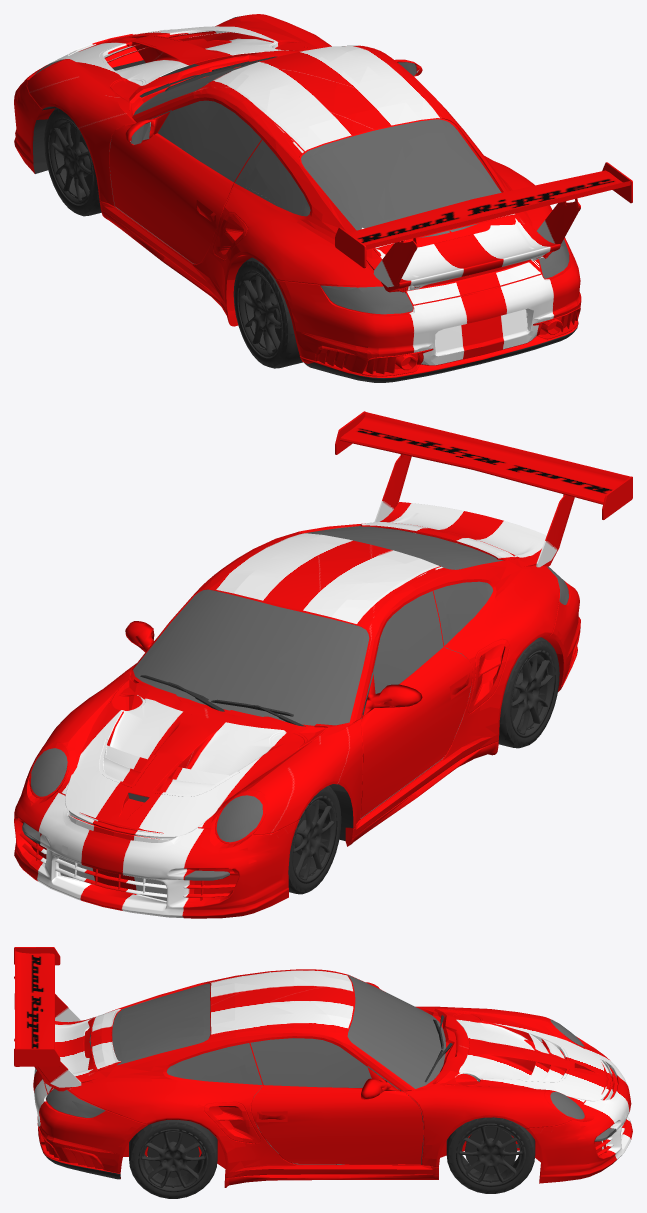
File: Porche.fbx
3 renders of one model, top to bottom at view 1: azimuth 30°, elevation 25°; view 2: azimuth 150°, elevation 25°; view 3: azimuth 270°, elevation 25°, orthographic. The views are drawn at different scales.
Visible parts, largest first — view 1: CarBody, Glass, Spoiler, FLDoor, Hood, FLWing, RLWheel, FLWheel, RearLights, FrontPanel, Wipers; view 2: CarBody, Glass, Hood, FrontPanel, Spoiler, FLDoor, FLWing, RLWheel, FLWheel, Wipers; view 3: CarBody, FRDoor, Glass, Hood, Spoiler, FrontPanel, RRWheel, FRWheel, FLWing, RearLights.
Boxes of the visible parts, x1=… form: CarBody: x1=26, y1=14, x2=581, y2=382; Glass: x1=33, y1=16, x2=501, y2=230; Spoiler: x1=335, y1=162, x2=632, y2=293; FLDoor: x1=109, y1=100, x2=261, y2=263; Hood: x1=65, y1=26, x2=311, y2=97; FLWing: x1=26, y1=59, x2=136, y2=206; RLWheel: x1=233, y1=257, x2=302, y2=368; FLWheel: x1=44, y1=108, x2=101, y2=216; RearLights: x1=320, y1=239, x2=569, y2=314; FrontPanel: x1=14, y1=55, x2=67, y2=173; Wipers: x1=139, y1=56, x2=277, y2=97; CarBody: x1=26, y1=522, x2=580, y2=848; Glass: x1=22, y1=526, x2=502, y2=880; Hood: x1=65, y1=687, x2=315, y2=837; FrontPanel: x1=14, y1=778, x2=295, y2=918; Spoiler: x1=335, y1=411, x2=632, y2=567; FLDoor: x1=360, y1=591, x2=472, y2=817; FLWing: x1=198, y1=719, x2=363, y2=839; RLWheel: x1=498, y1=637, x2=559, y2=748; FLWheel: x1=288, y1=785, x2=341, y2=894; Wipers: x1=140, y1=675, x2=305, y2=726; CarBody: x1=33, y1=969, x2=618, y2=1187; FRDoor: x1=250, y1=1038, x2=423, y2=1164; Glass: x1=112, y1=975, x2=616, y2=1141; Hood: x1=445, y1=1012, x2=610, y2=1101; Spoiler: x1=14, y1=947, x2=121, y2=1091; FrontPanel: x1=531, y1=1046, x2=632, y2=1183; RRWheel: x1=129, y1=1120, x2=217, y2=1198; FRWheel: x1=446, y1=1117, x2=535, y2=1193; FLWing: x1=416, y1=1006, x2=584, y2=1048; RearLights: x1=46, y1=1088, x2=105, y2=1117.
Size of the model in its own units: 196 by 127 by 461.
